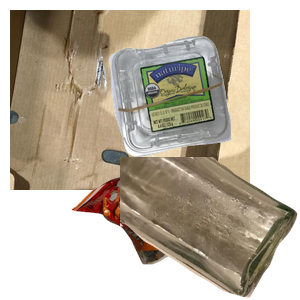cardboard: (10, 10, 250, 190)
glass: (120, 157, 300, 300)
plastic: (106, 34, 300, 183)
trash: (69, 153, 239, 300)
